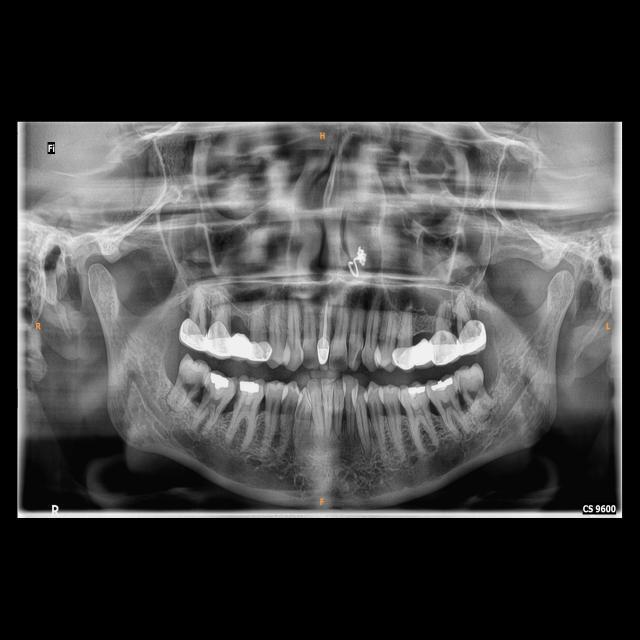dentin-curugu: (332, 353, 349, 372)
dolgu: (237, 376, 266, 399), (431, 375, 456, 396), (210, 370, 232, 391), (402, 382, 426, 401)
kanal-tedavisi: (314, 298, 334, 342)
kaplama: (175, 319, 211, 352), (454, 316, 487, 351), (209, 323, 236, 358), (432, 330, 460, 361), (249, 336, 272, 364), (394, 346, 414, 370), (316, 338, 332, 366)
kopru: (219, 321, 260, 360), (407, 332, 444, 367)
